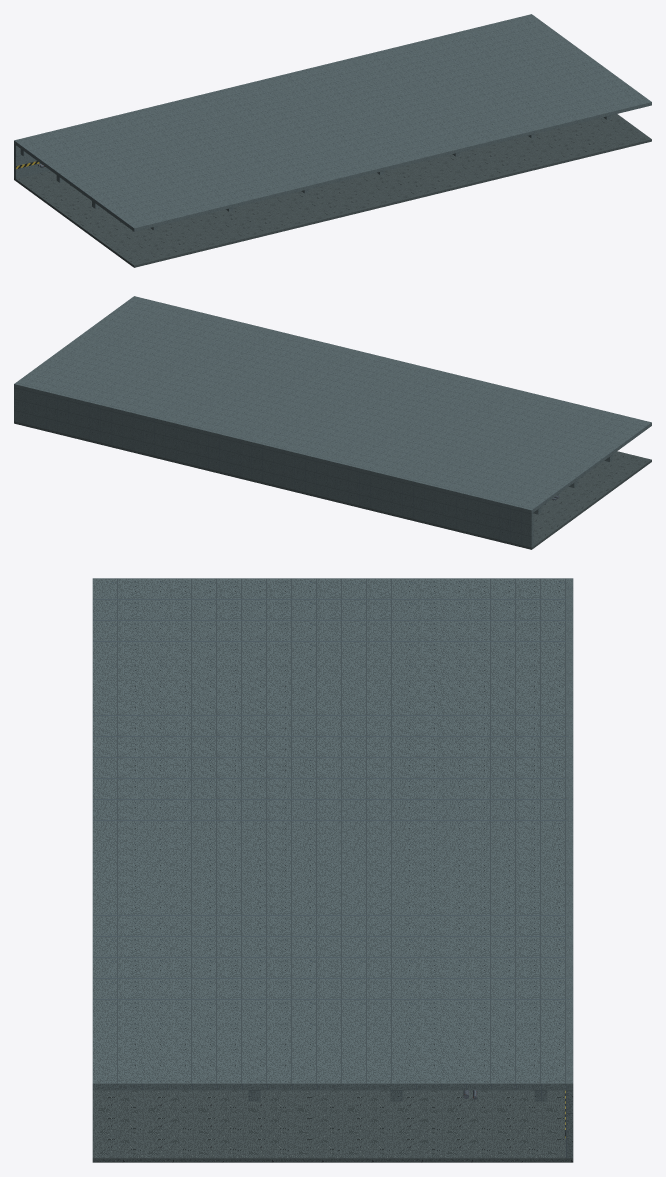
The model's file is shell.glb.
The picture shows the model from 3 angles, top to bottom: view 1: azimuth 30°, elevation 25°; view 2: azimuth 150°, elevation 25°; view 3: azimuth 270°, elevation 25°; orthographic projection. The views are drawn at different scales.
Visible parts, largest first — view 1: shell; view 2: shell; view 3: shell.
Boxes of the visible parts, <box> form: shell: <box>14,14,651,267</box>; shell: <box>14,296,651,549</box>; shell: <box>92,578,573,1162</box>.
Size of the model in its own units: 48 by 3.5 by 19.3.
Materials: 7 (7 with a texture image).
